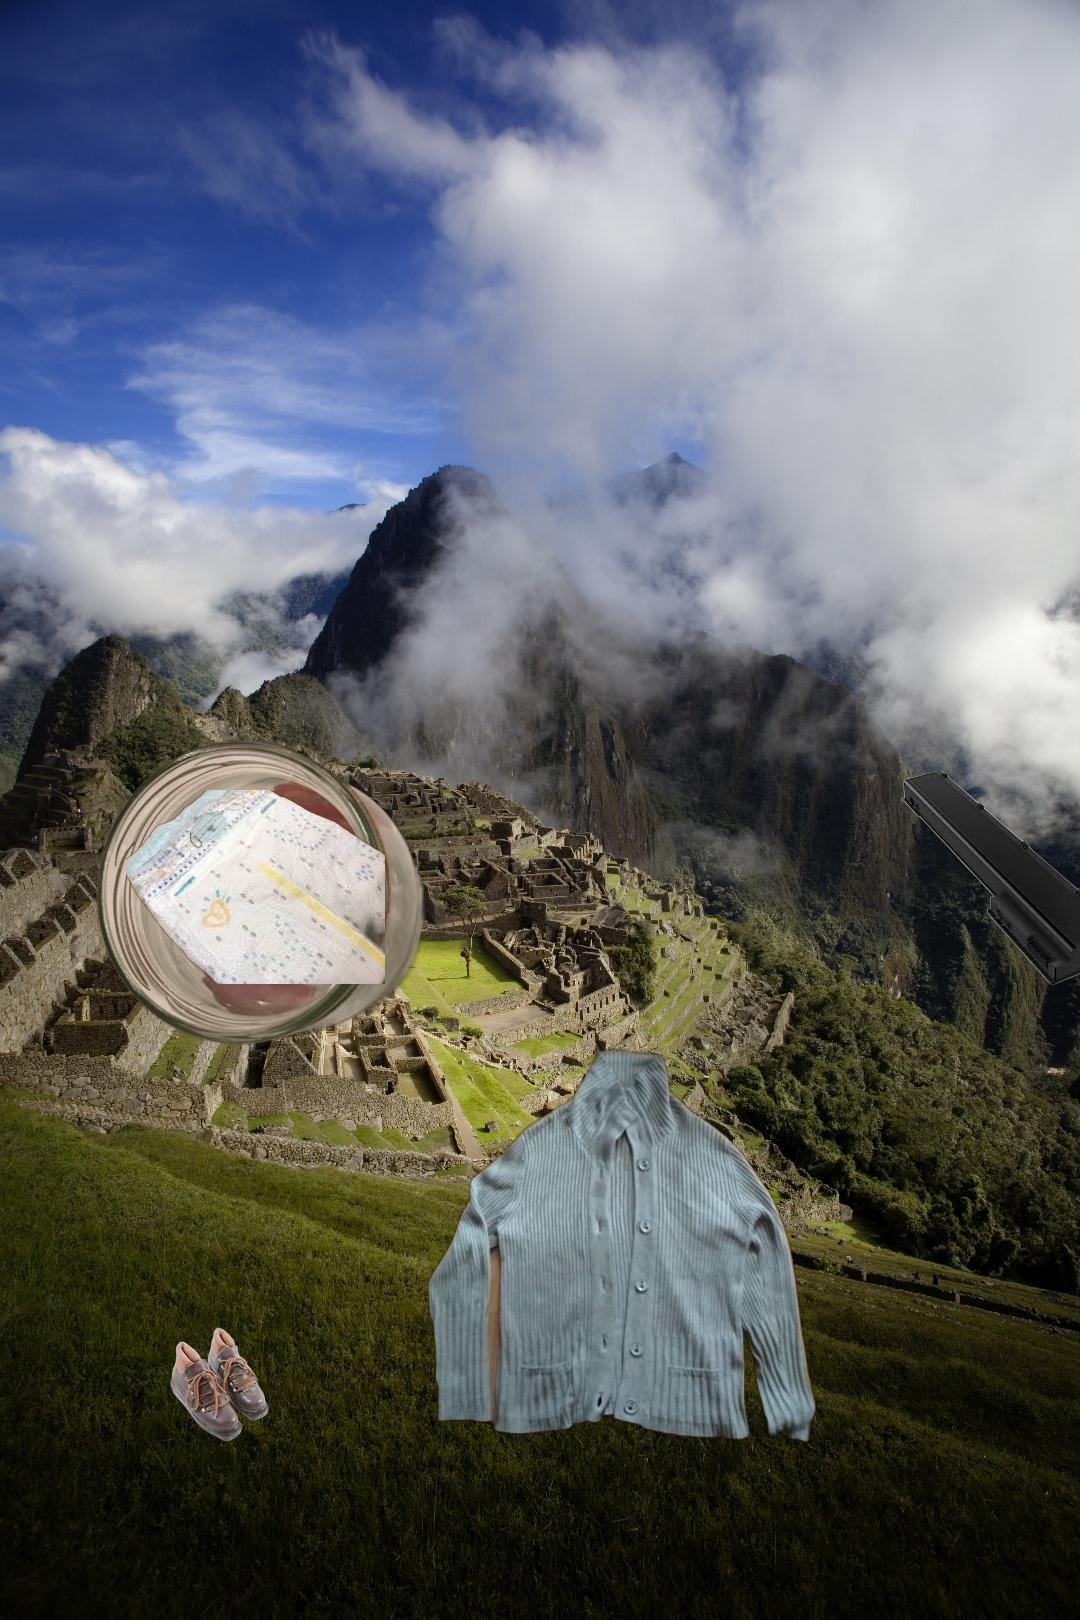battery: (899, 770, 1080, 988)
clothes: (424, 1045, 817, 1446)
glass: (92, 736, 451, 1047)
shoes: (168, 1325, 272, 1444)
trash: (127, 790, 385, 984)
